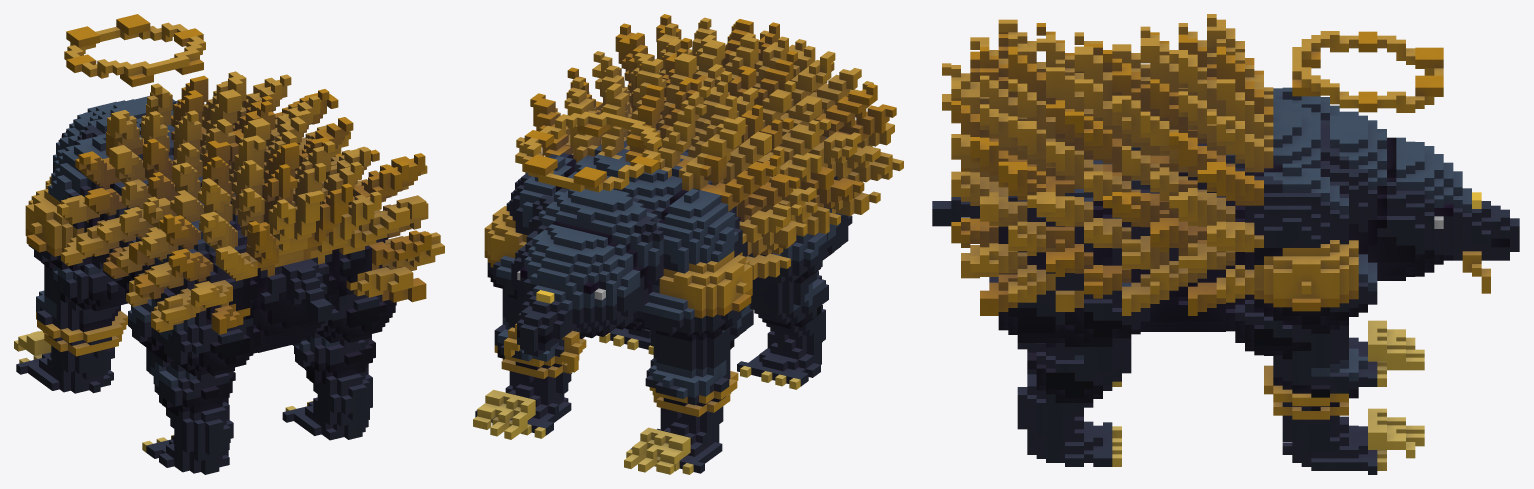
Rendered from Goldbristle.glb.
3 renders of one model, left to right at view 1: azimuth 30°, elevation 25°; view 2: azimuth 150°, elevation 25°; view 3: azimuth 270°, elevation 25°, orthographic. The views are drawn at different scales.
Visible parts, largest first — view 1: Body__Tex, Body__Tex2, LegBL1__Tex, LegFL1__Tex, Halo__Tex, LegFL2__Tex, LegBL2__Tex, LegFL3__Tex, LegBR3__Tex, LegBL3__Tex, LegBR2__Tex, LegBR1__Tex (+2 smaller); view 2: Body__Tex2, Body__Tex, Head__Tex, LegFL1__Tex, Halo__Tex, LegFL2__Tex, LegFL3__Tex, LegFR3__Tex, LegBL2__Tex, LegBL3__Tex, LegFR1__Tex, LegBL1__Tex (+2 smaller); view 3: Body__Tex2, Body__Tex, Head__Tex, LegFR1__Tex, Halo__Tex, LegBR1__Tex, LegFR3__Tex, LegBR2__Tex, LegFR2__Tex, LegBR3__Tex, LegFL3__Tex, Tail1__Tex.
Part boxes in pixels (x1,y1,x2,y2): Body__Tex: (116, 101, 444, 353); Body__Tex2: (48, 71, 350, 297); LegBL1__Tex: (128, 288, 263, 376); LegFL1__Tex: (25, 184, 128, 311); Halo__Tex: (64, 14, 205, 87); LegFL2__Tex: (36, 288, 127, 358); LegBL2__Tex: (146, 348, 235, 431); LegFL3__Tex: (14, 331, 114, 393); LegBR3__Tex: (282, 373, 372, 440); LegBL3__Tex: (142, 408, 233, 474); LegBR2__Tex: (292, 334, 375, 393); LegBR1__Tex: (306, 266, 396, 343); Body__Tex2: (506, 53, 816, 331); Body__Tex: (589, 14, 903, 236); Head__Tex: (504, 188, 666, 372); LegFL1__Tex: (634, 251, 753, 364); Halo__Tex: (522, 111, 661, 192); LegFL2__Tex: (645, 350, 738, 419); LegFL3__Tex: (624, 406, 723, 474); LegFR3__Tex: (473, 371, 572, 439); LegBL2__Tex: (750, 271, 828, 341); LegBL3__Tex: (737, 305, 825, 389); LegFR1__Tex: (484, 206, 527, 320); LegBL1__Tex: (760, 207, 852, 283); Body__Tex2: (1122, 14, 1348, 331); Body__Tex: (942, 19, 1131, 315); Head__Tex: (1320, 111, 1519, 293); LegFR1__Tex: (1226, 240, 1377, 363); Halo__Tex: (1292, 31, 1443, 112); LegBR1__Tex: (989, 272, 1150, 355); LegFR3__Tex: (1282, 408, 1424, 474); LegBR2__Tex: (1027, 338, 1131, 419); LegFR2__Tex: (1264, 347, 1367, 419); LegBR3__Tex: (1017, 378, 1121, 466); LegFL3__Tex: (1349, 320, 1424, 386); Tail1__Tex: (932, 197, 979, 226).
Size of the model in its own units: 4 by 4.3 by 6.2.
